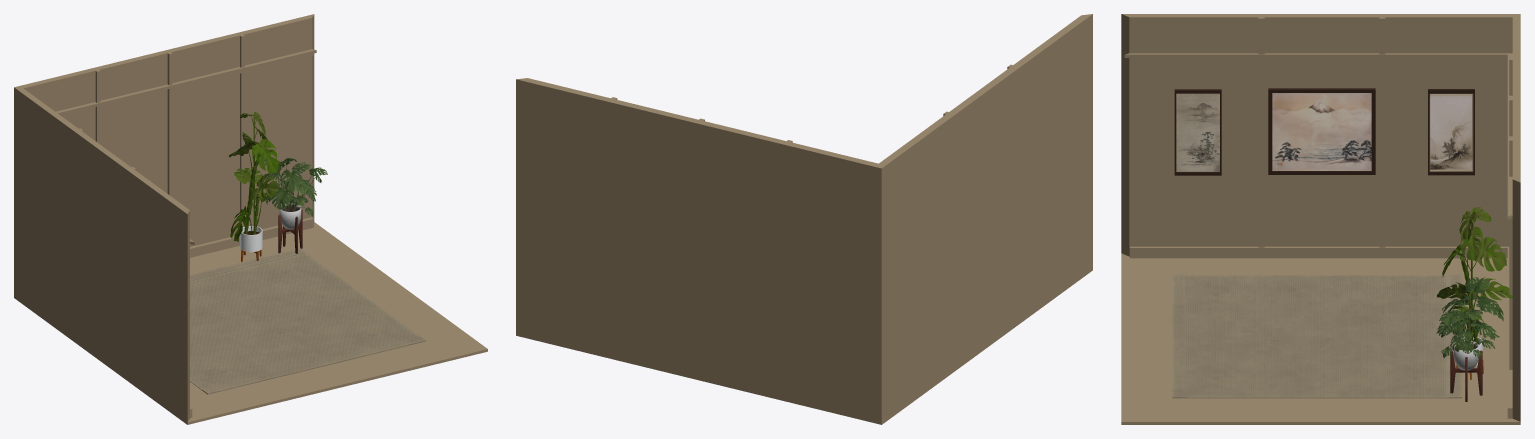
The model's file is japan-room-decimate-tall-o-transformed.glb.
The picture shows the model from 3 angles, left to right: view 1: azimuth 30°, elevation 25°; view 2: azimuth 150°, elevation 25°; view 3: azimuth 270°, elevation 25°; orthographic projection. The views are drawn at different scales.
Parts seen in each view (by area): view 1: room, tatami, PottedMonsteraPlantTurnedWoodPlanterWideWhite_PottedMonstera, Leaves_Mat.1_0, Pot_LP_Mat_0; view 2: room; view 3: room, tatami, painting_wide, painting_clif, painting_mountain, PottedMonsteraPlantTurnedWoodPlanterWideWhite_PottedMonstera, Leaves_Mat.1_0, Pot_LP_Mat_0.
Part boxes in pixels (left/top/right/bottom): room: left=14, top=14, right=487, bottom=424; tatami: left=190, top=248, right=426, bottom=394; PottedMonsteraPlantTurnedWoodPlanterWideWhite_PottedMonstera: left=229, top=112, right=281, bottom=261; Leaves_Mat.1_0: left=258, top=157, right=327, bottom=216; Pot_LP_Mat_0: left=278, top=203, right=302, bottom=253; room: left=516, top=14, right=1092, bottom=424; room: left=1121, top=14, right=1520, bottom=424; tatami: left=1172, top=274, right=1462, bottom=398; painting_wide: left=1272, top=93, right=1371, bottom=170; painting_clif: left=1174, top=88, right=1474, bottom=175; painting_mountain: left=1176, top=93, right=1219, bottom=171; PottedMonsteraPlantTurnedWoodPlanterWideWhite_PottedMonstera: left=1437, top=207, right=1512, bottom=379; Leaves_Mat.1_0: left=1436, top=277, right=1503, bottom=358; Pot_LP_Mat_0: left=1450, top=340, right=1482, bottom=401.
Bounding box in the file's own units: 5.99 × 4.01 × 5.99.
10 materials, 9 textured.
